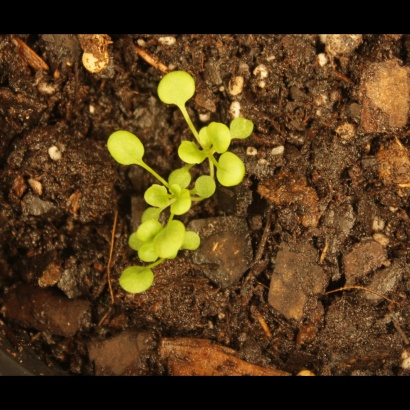leaf: (98, 126, 151, 171), (154, 63, 200, 107), (112, 265, 158, 300), (213, 152, 251, 190), (226, 107, 260, 142), (194, 174, 224, 208), (138, 182, 172, 211), (206, 121, 233, 157), (170, 226, 205, 253), (171, 193, 202, 221), (174, 140, 206, 166), (166, 169, 193, 199), (134, 217, 164, 242), (138, 242, 167, 265), (121, 230, 150, 253), (140, 203, 164, 226)
